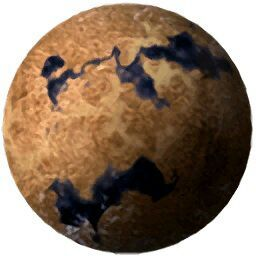planet: (1, 3, 254, 255)
